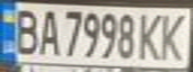7: (57, 7, 81, 57)
8: (115, 10, 139, 61)
9: (78, 8, 103, 59), (96, 9, 121, 60)
A: (33, 6, 60, 56)
B: (9, 4, 42, 56)
K: (157, 9, 193, 62), (136, 10, 166, 61)
